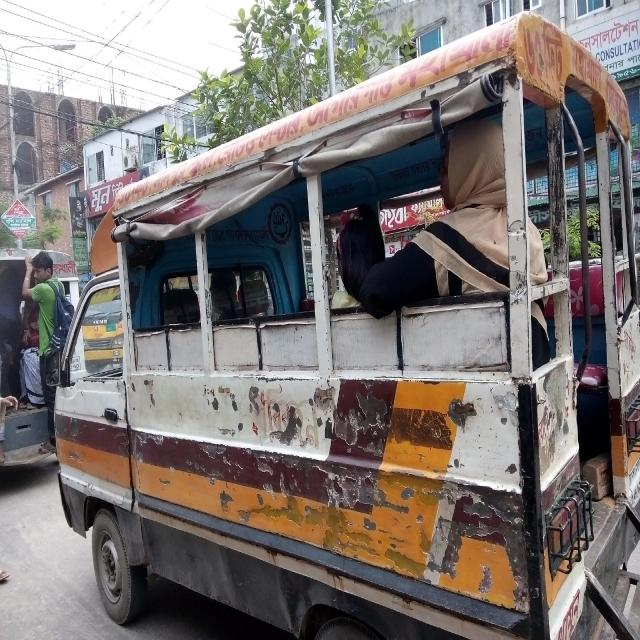Leguna: (41, 26, 639, 640)
